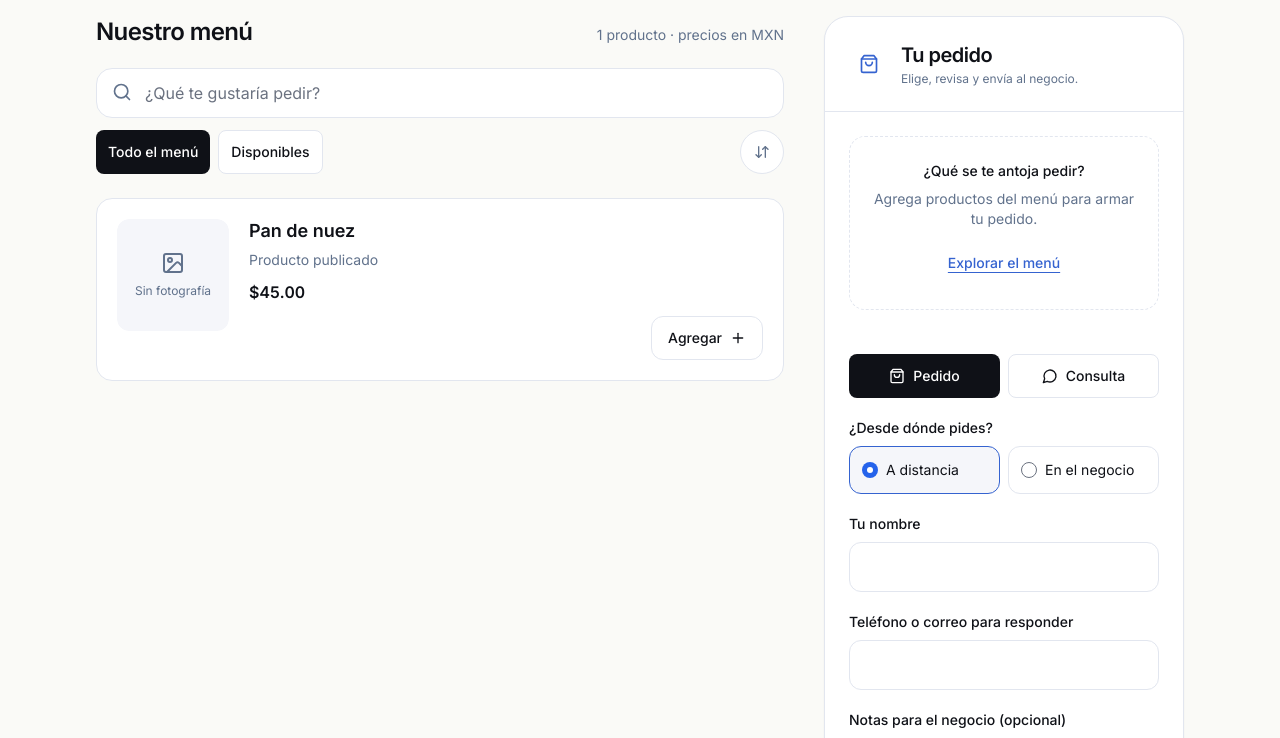
lets a visitor send a general consultation with the unchanged public request contract
(page scrolled)
Click the button with aria-label "Solo consultar": (1084,376) [1008, 354, 1159, 398]
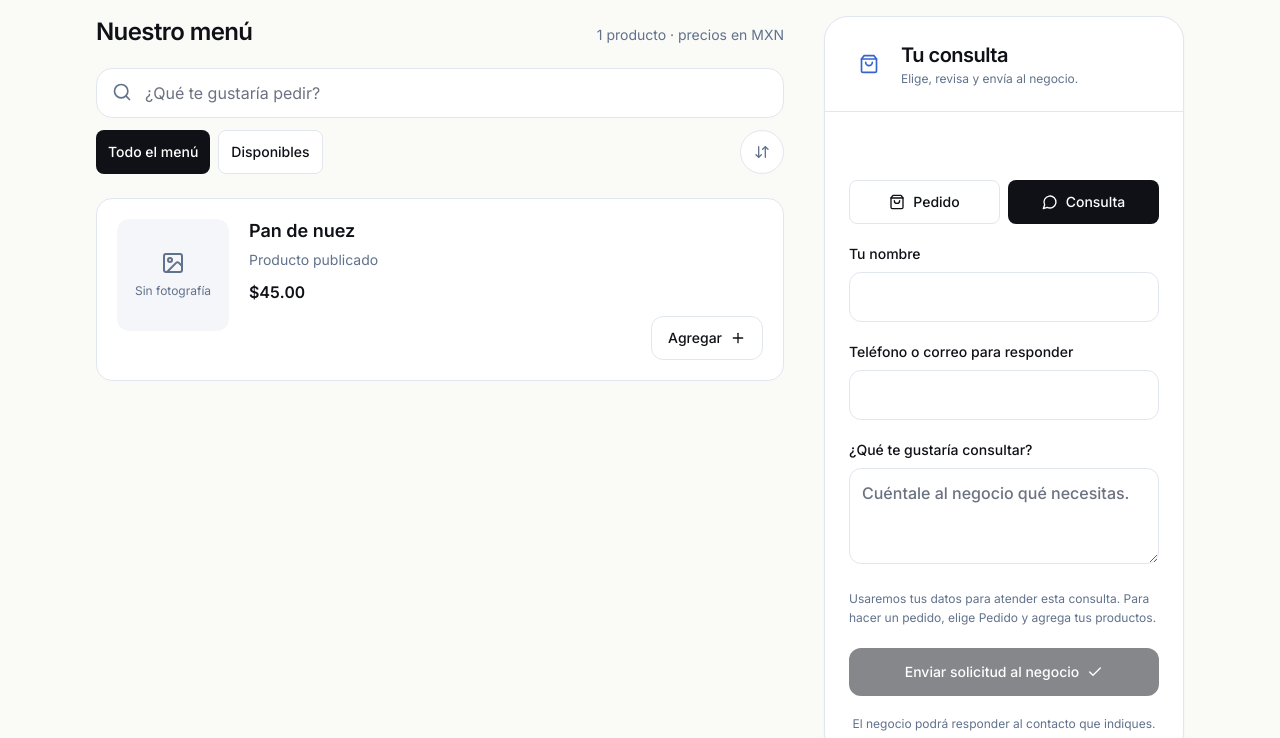
In the field labelled "Tu nombre": (1004,296) [849, 272, 1159, 322], type "Ana"
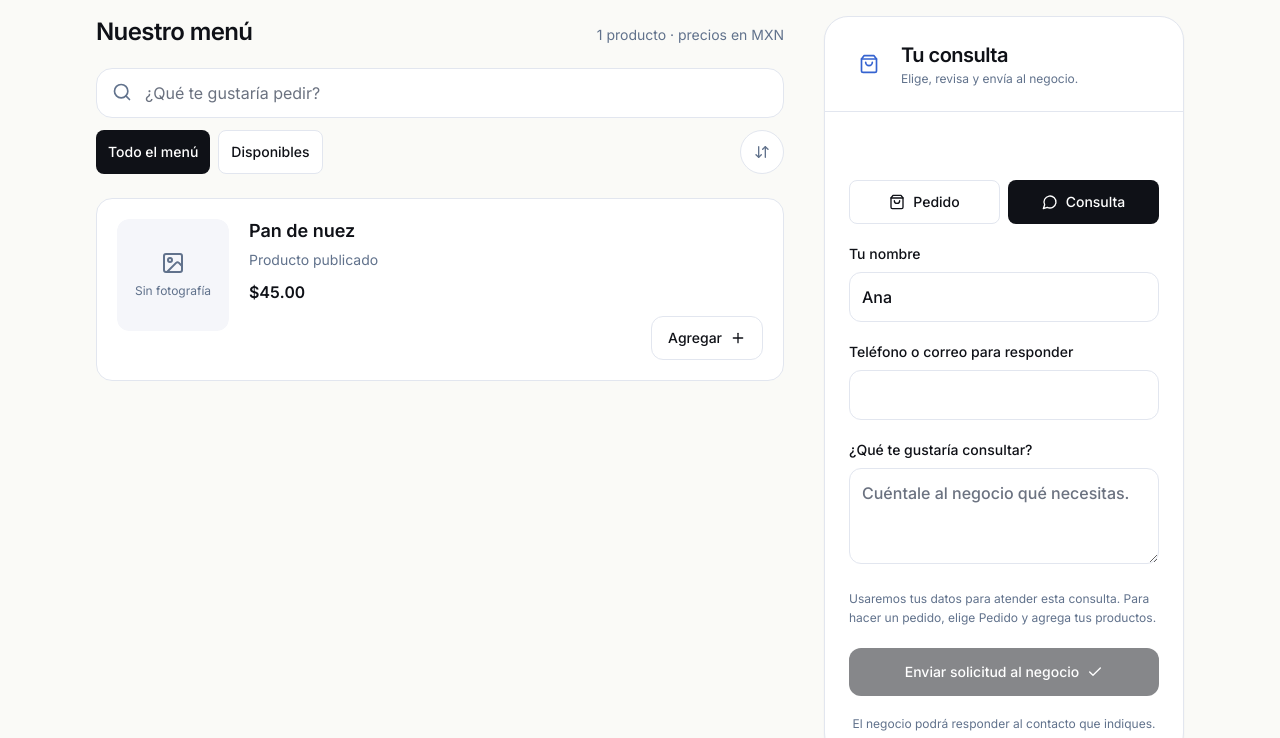
In the field labelled "Teléfono o correo para responder": (1004,394) [849, 370, 1159, 420], type "ana@example.com"
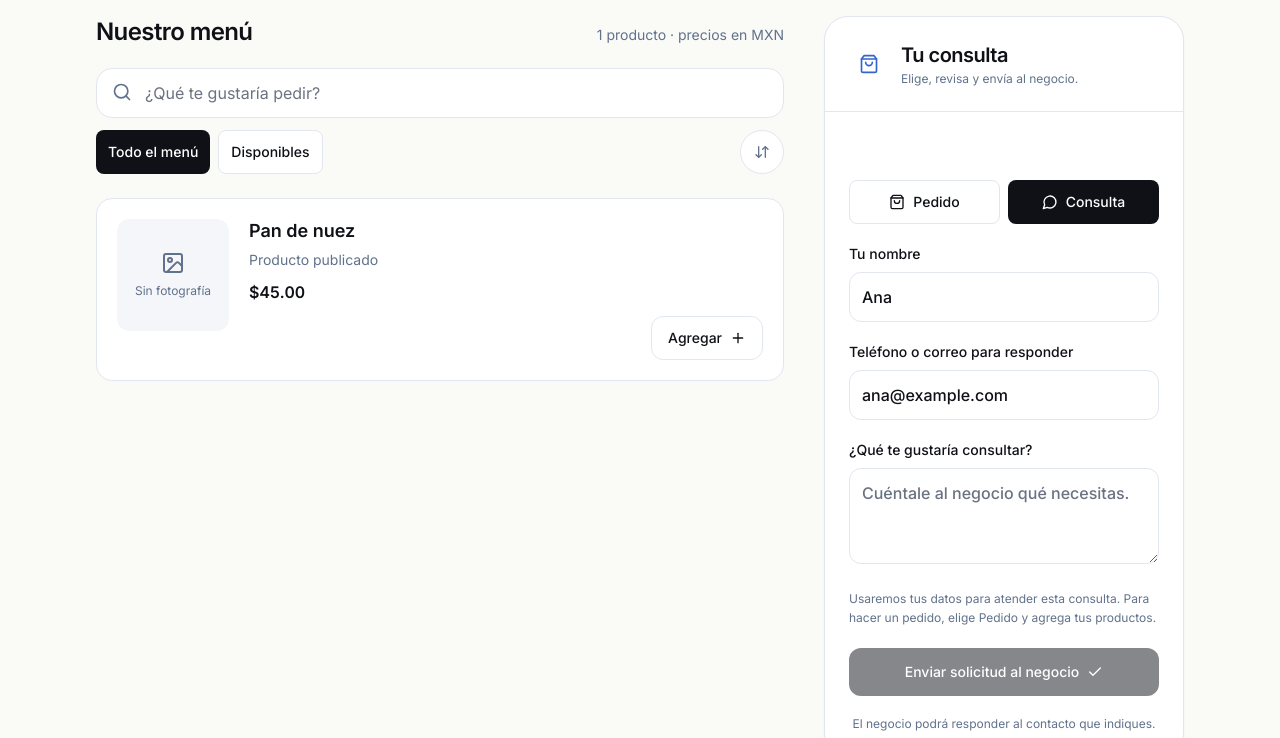
In the text box labelled "¿Qué te gustaría consultar?": (1004,516) [849, 468, 1159, 564], type "¿Abren mañana?"
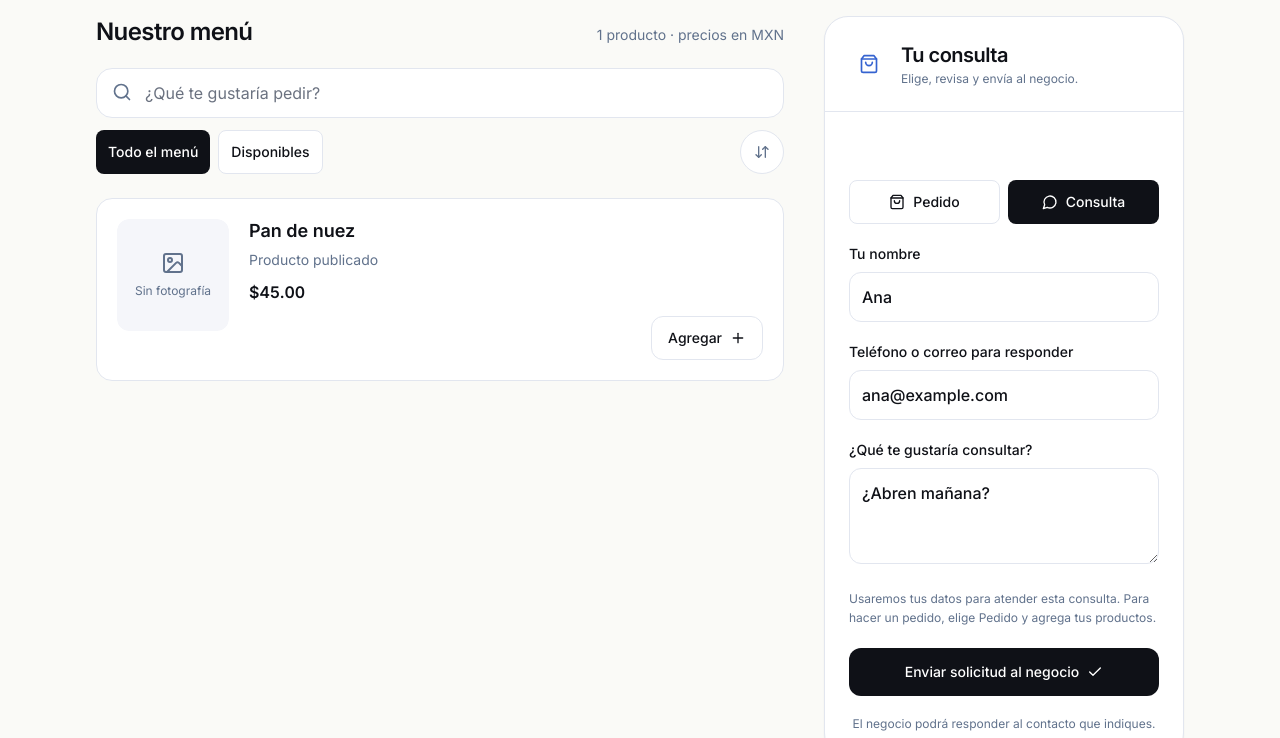
Click the button "Enviar solicitud al negocio": (1004,672) [849, 648, 1159, 696]
(page scrolled)
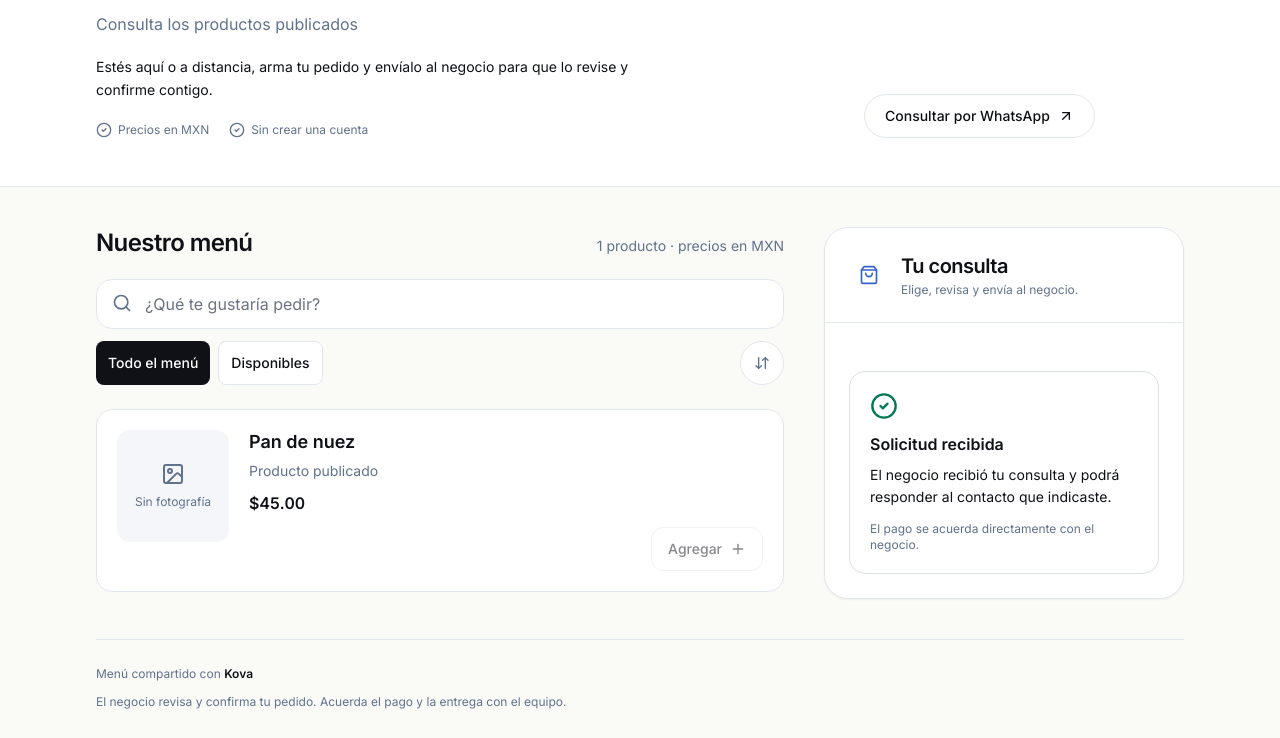
Expected: the text "Solicitud recibida" is shown, [870, 434, 1004, 454]
